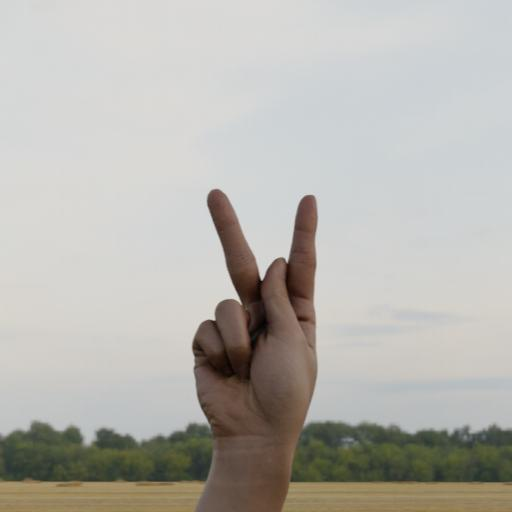K: (166, 180, 338, 512)
